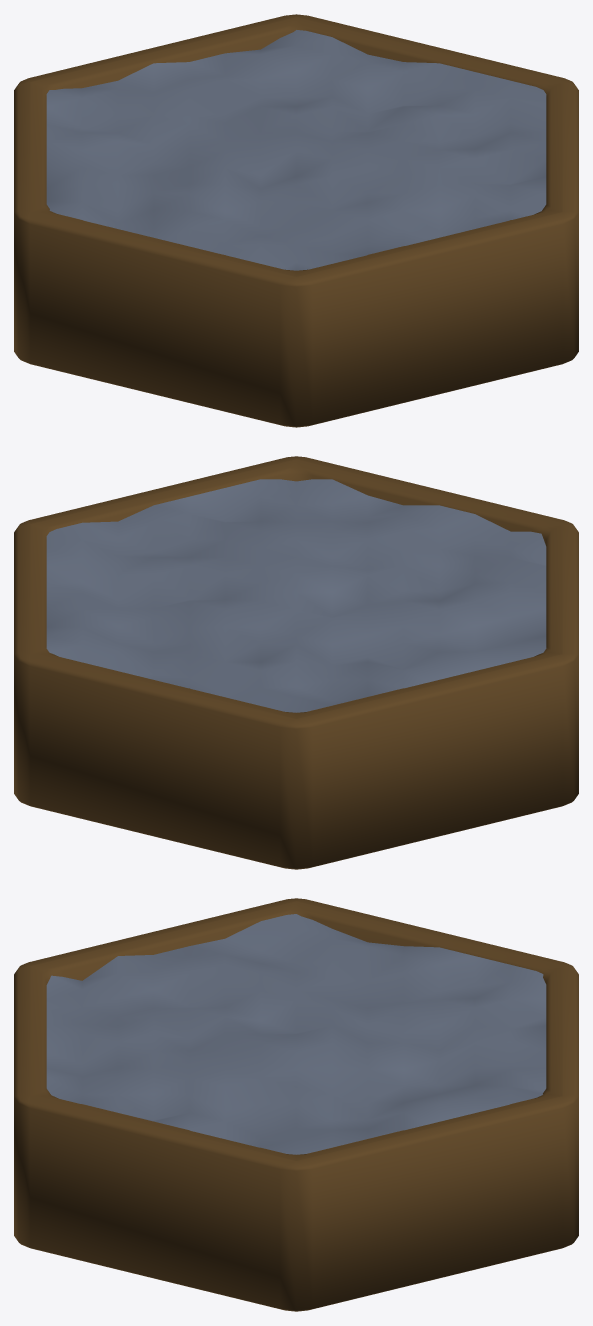
The model's file is waterhex.fbx.
The picture shows the model from 3 angles, top to bottom: view 1: azimuth 30°, elevation 25°; view 2: azimuth 150°, elevation 25°; view 3: azimuth 270°, elevation 25°; orthographic projection.
Parts seen in each view (by area): view 1: Cylinder.006, Cylinder.007; view 2: Cylinder.006, Cylinder.007; view 3: Cylinder.006, Cylinder.007.
Part boxes in pixels (x1,y1,x2,y2): Cylinder.006: (14,14,578,427); Cylinder.007: (46,30,546,270); Cylinder.006: (14,456,578,869); Cylinder.007: (46,479,546,712); Cylinder.006: (14,898,578,1311); Cylinder.007: (46,914,546,1154).
Bounding box in the file's own units: 197 × 50 × 173.
